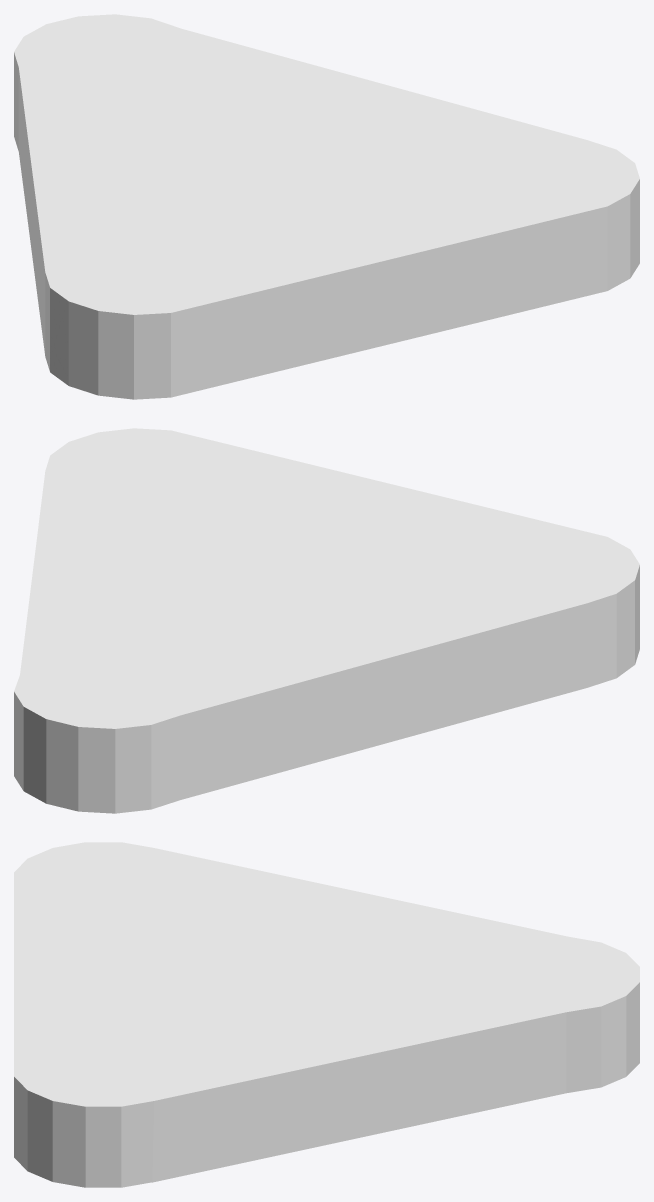
File: RoundTriangle.fbx
The picture shows the model from 3 angles, top to bottom: view 1: azimuth 30°, elevation 25°; view 2: azimuth 150°, elevation 25°; view 3: azimuth 270°, elevation 25°; orthographic projection. The views are drawn at different scales.
Visible parts, largest first — view 1: cuboid; view 2: cuboid; view 3: cuboid.
Part boxes in pixels (box(x1,y1,x2,y2)): cuboid: box(14, 14, 639, 399); cuboid: box(14, 428, 639, 813); cuboid: box(14, 842, 639, 1187).
Bounding box in the file's own units: 87.5 × 12.5 × 87.5.
1 material, 1 textured.
